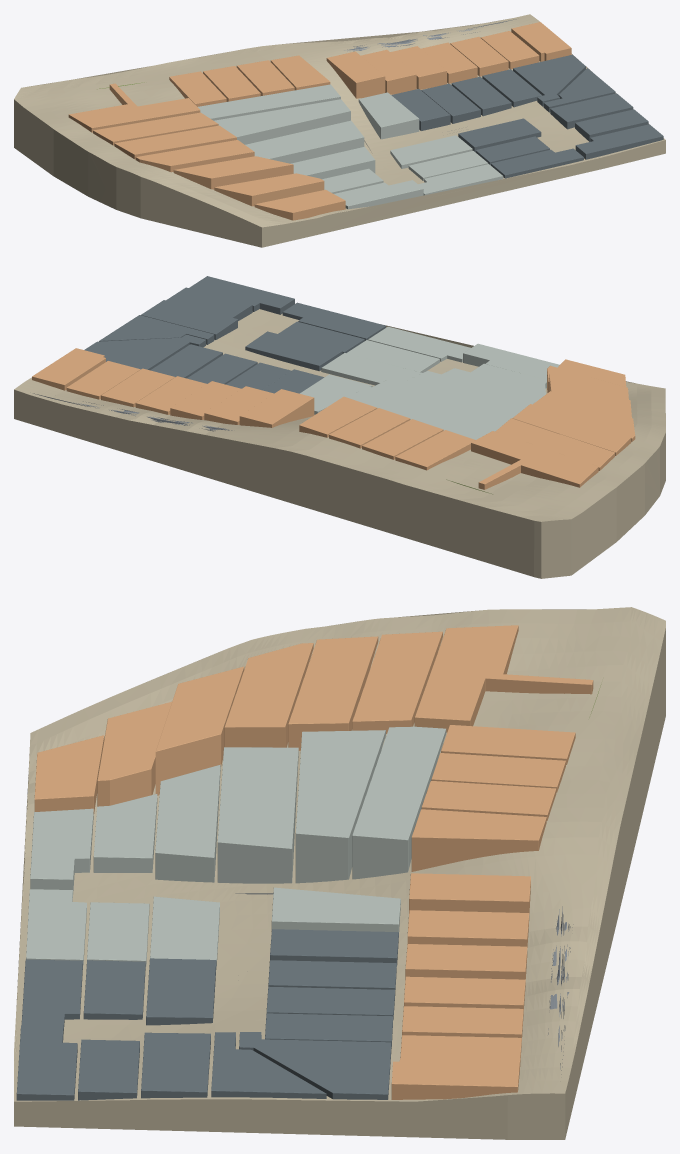
The model's file is beechford-bowl.glb.
3 renders of one model, top to bottom at view 1: azimuth 30°, elevation 25°; view 2: azimuth 150°, elevation 25°; view 3: azimuth 270°, elevation 25°, orthographic. The views are drawn at different scales.
Visible parts, largest first — view 1: Terrain, Lot_20, Lot_21, Lot_12, Lot_16, Lot_19, Lot_17, Lot_15, Lot_14, Lot_33, Lot_13, Lot_28 (+30 smaller); view 2: Terrain, Lot_12, Lot_20, Lot_19, Lot_33, Lot_14, Lot_13, Lot_40, Lot_07, Lot_15, Lot_35, Lot_38 (+30 smaller); view 3: Terrain, Lot_21, Lot_20, Lot_19, Lot_12, Lot_22, Lot_33, Lot_16, Lot_15, Lot_14, Lot_08, Lot_13 (+30 smaller).
Part boxes in pixels (x1=…): Terrain: x1=14, y1=14, x2=665, y2=247; Lot_20: x1=214, y1=99, x2=350, y2=144; Lot_21: x1=245, y1=120, x2=364, y2=163; Lot_12: x1=68, y1=83, x2=200, y2=132; Lot_16: x1=173, y1=156, x2=293, y2=189; Lot_19: x1=198, y1=84, x2=340, y2=120; Lot_17: x1=214, y1=173, x2=324, y2=206; Lot_15: x1=135, y1=140, x2=254, y2=172; Lot_14: x1=114, y1=125, x2=236, y2=159; Lot_33: x1=513, y1=54, x2=585, y2=106; Lot_13: x1=93, y1=112, x2=218, y2=145; Lot_28: x1=358, y1=92, x2=419, y2=139; Terrain: x1=14, y1=309, x2=665, y2=578; Lot_12: x1=471, y1=431, x2=598, y2=489; Lot_20: x1=372, y1=376, x2=522, y2=428; Lot_19: x1=347, y1=386, x2=497, y2=439; Lot_33: x1=84, y1=334, x2=205, y2=370; Lot_14: x1=512, y1=404, x2=631, y2=455; Lot_13: x1=495, y1=418, x2=614, y2=470; Lot_40: x1=245, y1=331, x2=342, y2=371; Lot_07: x1=239, y1=389, x2=314, y2=427; Lot_15: x1=533, y1=391, x2=635, y2=441; Lot_35: x1=141, y1=300, x2=237, y2=339; Lot_38: x1=282, y1=302, x2=385, y2=340; Terrain: x1=14, y1=607, x2=665, y2=1139; Lot_21: x1=217, y1=747, x2=298, y2=883; Lot_20: x1=295, y1=730, x2=385, y2=883; Lot_19: x1=352, y1=726, x2=446, y2=879; Lot_12: x1=414, y1=625, x2=593, y2=732; Lot_22: x1=155, y1=764, x2=220, y2=882; Lot_33: x1=239, y1=1032, x2=391, y2=1099; Lot_16: x1=155, y1=666, x2=244, y2=795; Lot_15: x1=224, y1=643, x2=313, y2=747; Lot_14: x1=288, y1=636, x2=378, y2=750; Lot_08: x1=411, y1=809, x2=546, y2=871; Lot_13: x1=352, y1=631, x2=442, y2=733.
Bounding box in the file's own units: 426 × 41.05 × 264.
